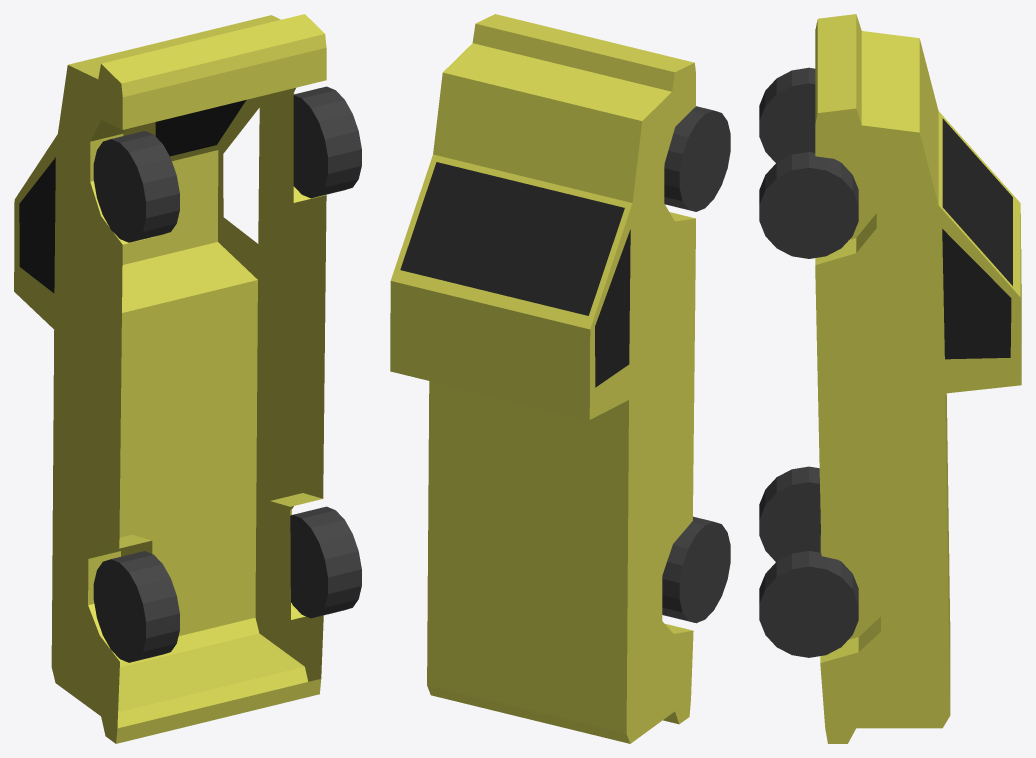
The model's file is truck_yellow.dae.
3 renders of one model, left to right at view 1: azimuth 30°, elevation 25°; view 2: azimuth 150°, elevation 25°; view 3: azimuth 270°, elevation 25°, orthographic. The views are drawn at different scales.
Visible parts, largest first — view 1: Cube.003; view 2: Cube.003; view 3: Cube.003.
Boxes of the visible parts, <box> form: Cube.003: <box>14,14,361,743</box>; Cube.003: <box>390,14,730,743</box>; Cube.003: <box>759,14,1021,743</box>.
Bounding box in the file's own units: 1.91 × 2.11 × 5.65.
